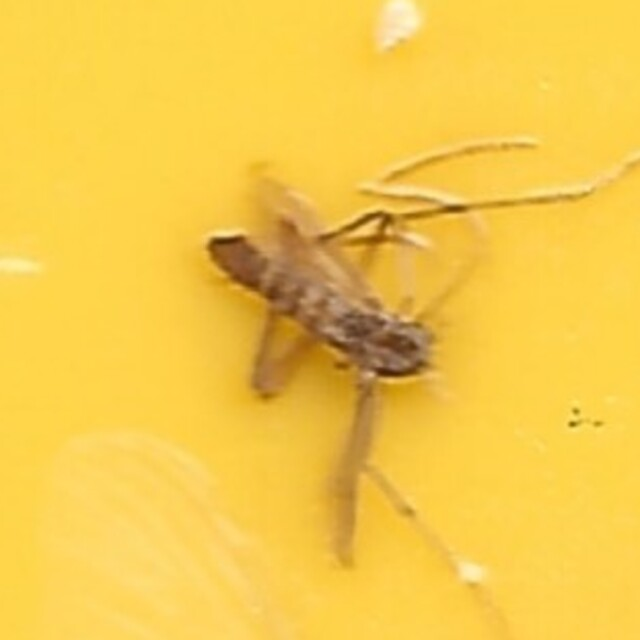Nematocera: (206, 237, 434, 403)
